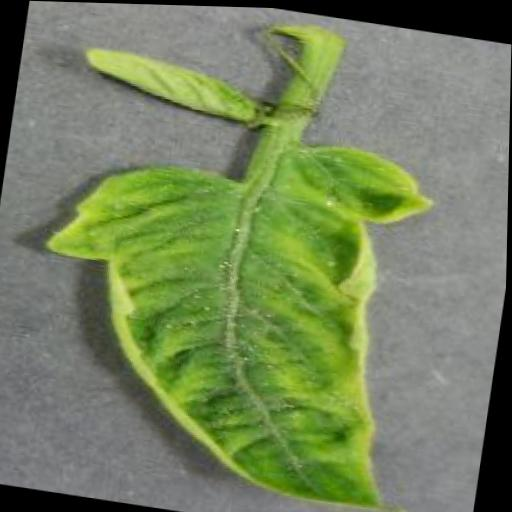Yellow Leaf Curl Virus: (15, 104, 449, 512), (81, 40, 260, 124)
